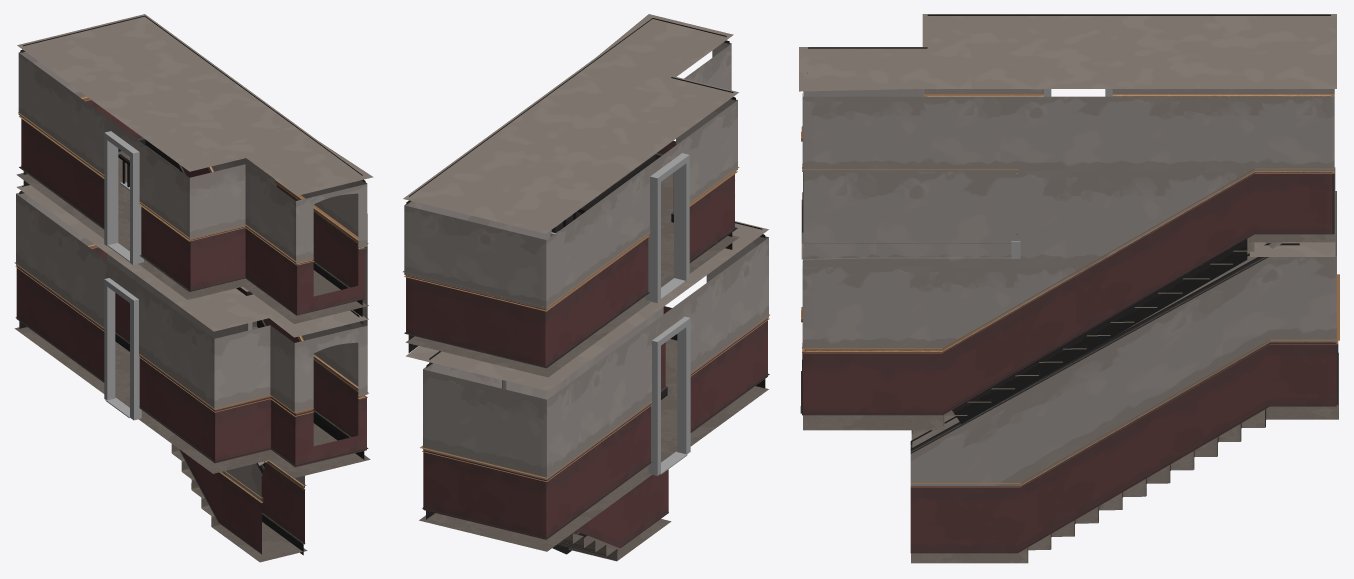
Rendered from IZABuilding_hallway.fbx.
3 views of the same model, side by side, from view 1: azimuth 30°, elevation 25°; view 2: azimuth 150°, elevation 25°; view 3: azimuth 270°, elevation 25° (orthographic). The views are drawn at different scales.
Parts seen in each view (by area): view 1: IZAHallway_roof3, IZAHallway_wall_f2up1, IZAHallway_wall_f3up1, IZAHallway_wall_f2down1, IZAHallway_wall_f3down1, IZAHallway_roof2, IZAHallway_wall_f2down3, IZAHallway_floor2, IZAHallway_wall_f3down2, IZAHallway_floor3, charlse_door_frame1, movedout_home_doorframe1 (+17 smaller); view 2: IZAHallway_roof3, IZAHallway_wall_f2up1, IZAHallway_wall_f3up1, IZAHallway_wall_f3down2, IZAHallway_wall_f2down3, IZAHallway_floor2, IZAHallway_roof2, IZAHallway_wall_f2down1, IZAHallway_floor3, charlse_door_frame1, movedout_home_doorframe1, IZAHallway_wall_f3down1 (+11 smaller); view 3: IZAHallway_wall_f3up1, IZAHallway_roof3, IZAHallway_wall_f3up2, IZAHallway_wall_f1up1, IZAHallway_wall_f2up1, IZAHallway_wall_f2down2, IZAHallway_wall_f1down2, IZAHallway_wall_f2down1, IZAHallway_wall_f1down1, IZAHallway_down_f2edge3, IZAHallway_wall_f3down2, IZAHallway_wall_f2down3 (+12 smaller).
Boxes of the visible parts, x1,y1,x2,y2 form: IZAHallway_roof3: (17, 14, 373, 195); IZAHallway_wall_f2up1: (16, 193, 367, 412); IZAHallway_wall_f3up1: (18, 52, 367, 263); IZAHallway_wall_f2down1: (139, 356, 366, 467); IZAHallway_wall_f3down1: (141, 184, 364, 314); IZAHallway_roof2: (16, 185, 368, 337); IZAHallway_wall_f2down3: (16, 247, 107, 382); IZAHallway_floor2: (14, 327, 370, 478); IZAHallway_wall_f3down2: (21, 100, 142, 227); IZAHallway_floor3: (16, 145, 368, 323); charlse_door_frame1: (104, 131, 143, 265); movedout_home_doorframe1: (104, 278, 141, 420); IZAHallway_roof3: (403, 14, 738, 233); IZAHallway_wall_f2up1: (423, 236, 768, 479); IZAHallway_wall_f3up1: (404, 42, 737, 309); IZAHallway_wall_f3down2: (406, 237, 648, 366); IZAHallway_wall_f2down3: (423, 404, 650, 539); IZAHallway_floor2: (419, 339, 768, 551); IZAHallway_roof2: (406, 221, 768, 390); IZAHallway_wall_f2down1: (663, 306, 767, 432); IZAHallway_floor3: (405, 173, 739, 377); charlse_door_frame1: (645, 153, 689, 302); movedout_home_doorframe1: (648, 316, 690, 475); IZAHallway_wall_f3down1: (657, 141, 734, 260); IZAHallway_wall_f3up1: (802, 89, 1334, 171); IZAHallway_roof3: (799, 14, 1336, 91); IZAHallway_wall_f3up2: (803, 171, 1254, 266); IZAHallway_wall_f1up1: (910, 257, 1269, 485); IZAHallway_wall_f2up1: (802, 191, 1336, 348); IZAHallway_wall_f2down2: (942, 172, 1254, 414); IZAHallway_wall_f1down2: (1018, 342, 1269, 552); IZAHallway_wall_f2down1: (802, 352, 942, 415); IZAHallway_wall_f1down1: (910, 486, 1020, 553); IZAHallway_down_f2edge3: (951, 238, 1247, 424); IZAHallway_wall_f3down2: (1254, 172, 1332, 233); IZAHallway_wall_f2down3: (1270, 342, 1336, 406).
Size of the model in its own units: 2.92 by 8.16 by 8.18.
